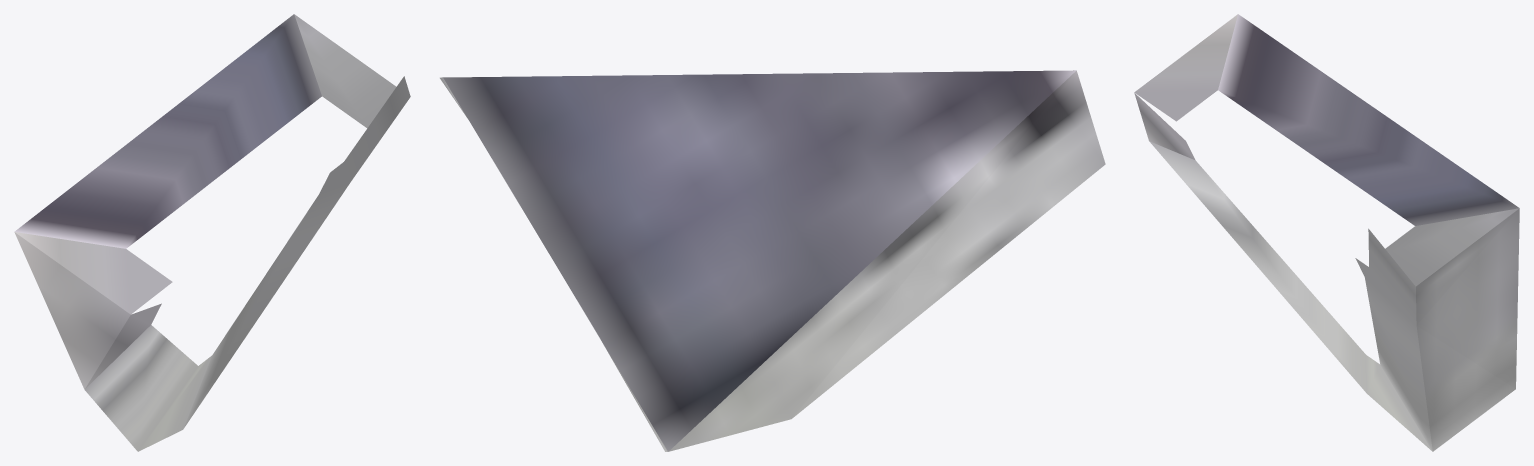
The picture shows the model from 3 angles, left to right: view 1: azimuth 30°, elevation 25°; view 2: azimuth 150°, elevation 25°; view 3: azimuth 270°, elevation 25°; orthographic projection. The views are drawn at different scales.
Size of the model in its own units: 6.01 by 3.99 by 4.43.
1 material, 1 textured.
